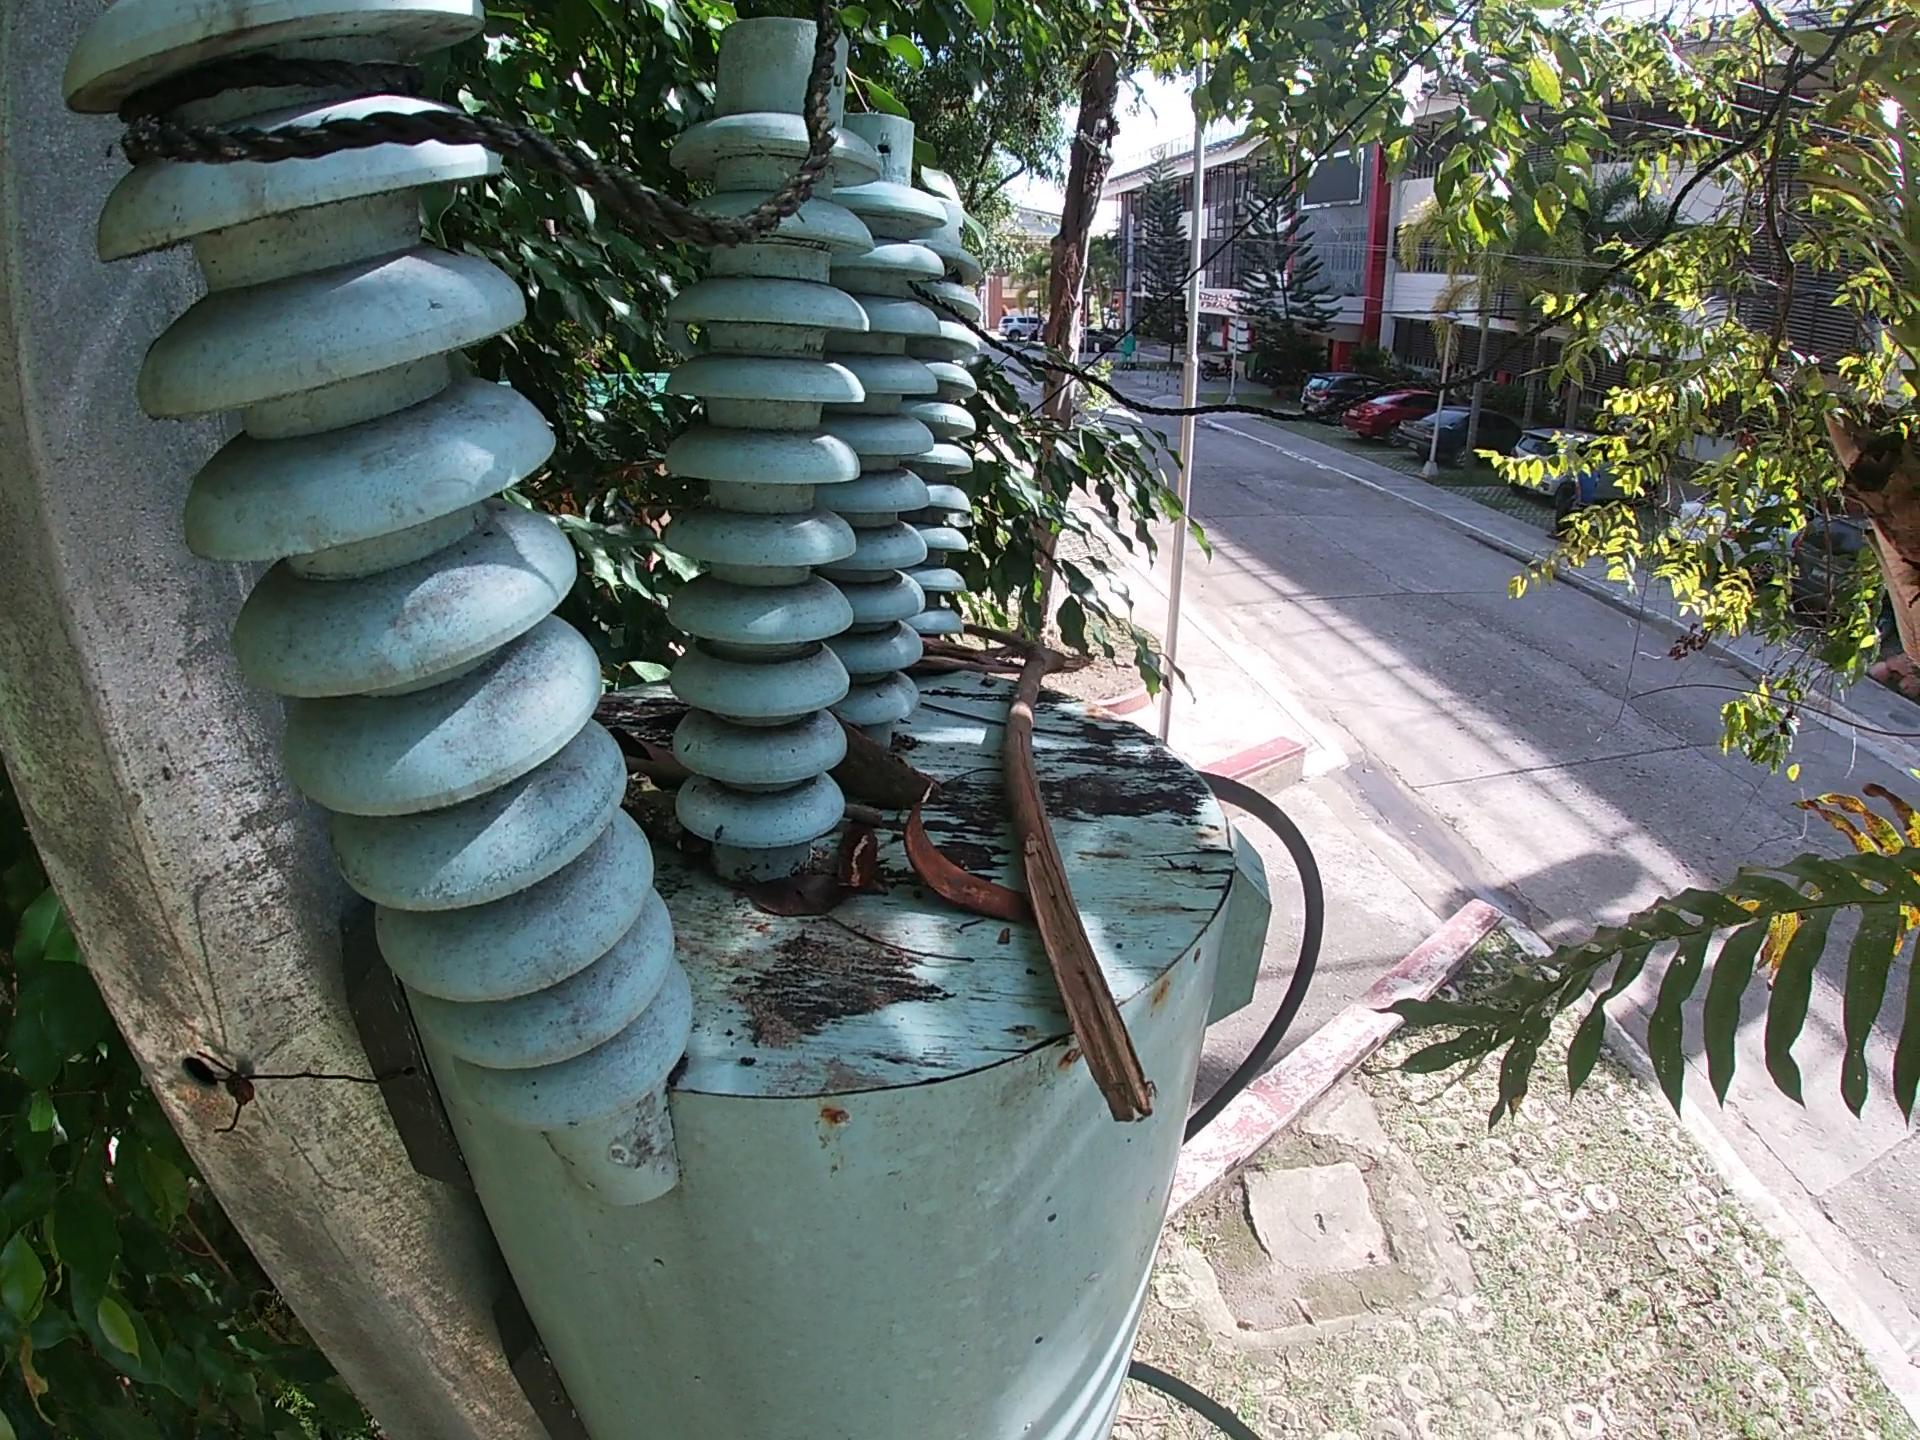leaf: (735, 862, 847, 926)
mahogany fruit: (900, 782, 1039, 924), (819, 715, 952, 812), (833, 817, 887, 891)
tree branch: (962, 616, 1160, 1130), (618, 771, 717, 861), (906, 634, 1027, 681), (618, 753, 694, 787), (841, 805, 889, 827)
